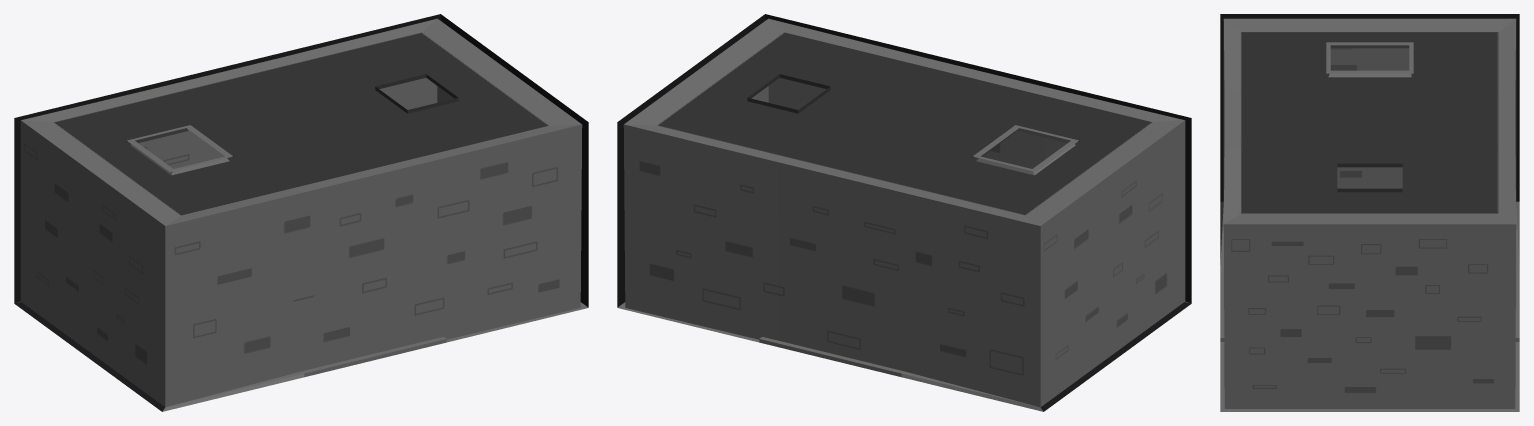
Rendered from Maceta.fbx.
3 views of the same model, side by side, from view 1: azimuth 30°, elevation 25°; view 2: azimuth 150°, elevation 25°; view 3: azimuth 270°, elevation 25° (orthographic).
Visible parts, largest first — view 1: Cube.003; view 2: Cube.003; view 3: Cube.003.
Boxes of the visible parts, x1,y1,x2,y2 form: Cube.003: [14, 14, 588, 411]; Cube.003: [617, 14, 1191, 411]; Cube.003: [1220, 14, 1519, 411].
Bounding box in the file's own units: 112 × 46.68 × 67.05.
